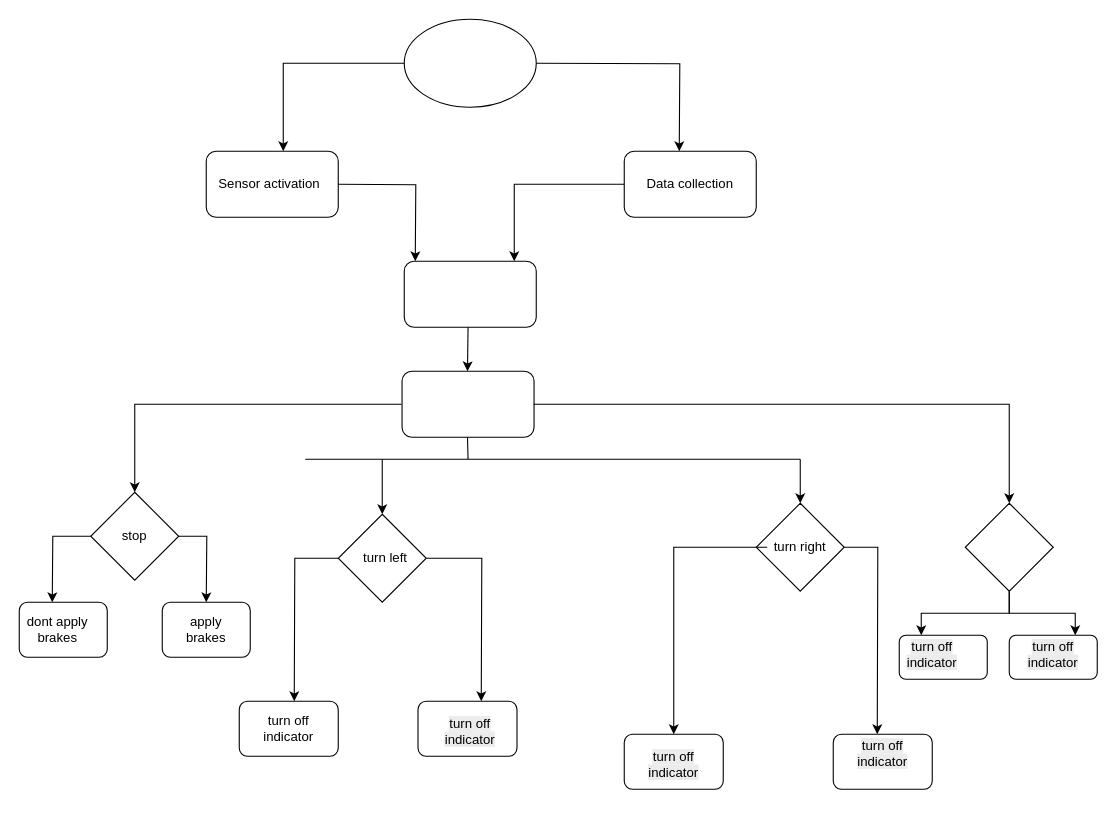
This 1117x832 diagram has some shape labels left out. Each missing label, with the centre of its shape:
"go straight" belongs at pixel 1008 546.
"Perception system" belongs at pixel 467 403.
"Sensor flow" belongs at pixel 469 293.
"Start vehicle" belongs at pixel 469 62.
